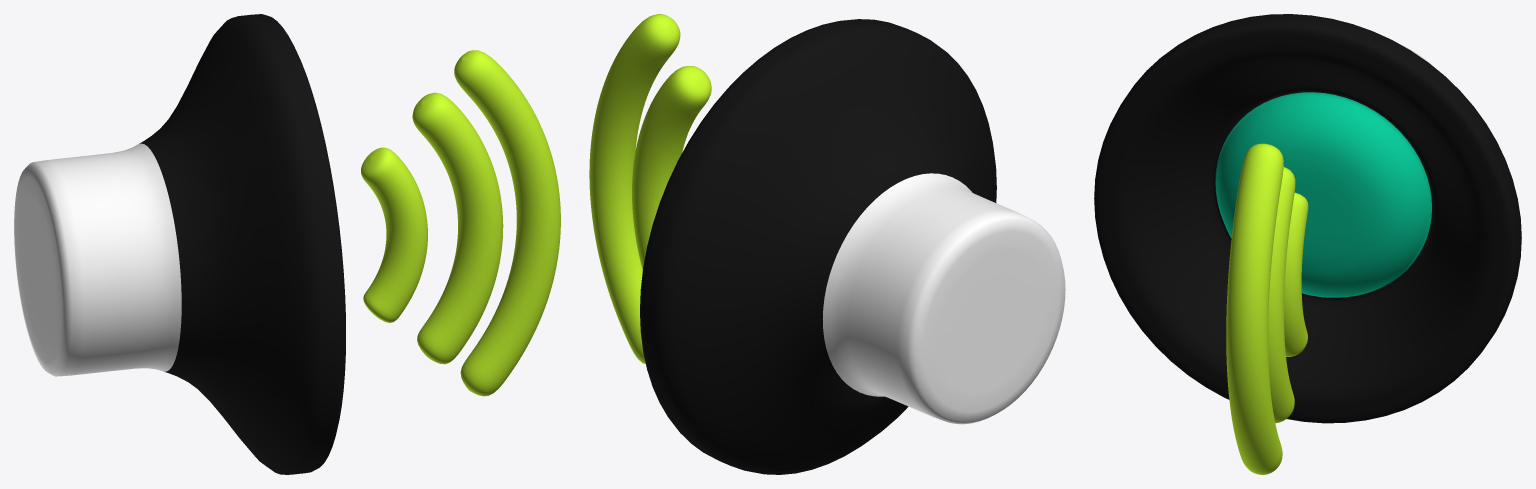
File: volume-control-3d-animated-icon-277349992658.glb
3 renders of one model, left to right at view 1: azimuth 30°, elevation 25°; view 2: azimuth 150°, elevation 25°; view 3: azimuth 270°, elevation 25°, orthographic. The views are drawn at different scales.
Parts seen in each view (by area): view 1: Cylinder.144, Circle.004, Circle.003, Circle.005; view 2: Cylinder.144, Circle.004, Circle.003; view 3: Cylinder.144, Circle.004, Circle.003, Circle.005.
Part boxes in pixels (x1=…): Cylinder.144: x1=14, y1=14, x2=345, y2=474; Circle.004: x1=454, y1=50, x2=560, y2=396; Circle.003: x1=412, y1=92, x2=503, y2=364; Circle.005: x1=361, y1=147, x2=427, y2=322; Cylinder.144: x1=640, y1=19, x2=1065, y2=474; Circle.004: x1=589, y1=14, x2=680, y2=364; Circle.003: x1=632, y1=66, x2=711, y2=270; Cylinder.144: x1=1094, y1=14, x2=1521, y2=423; Circle.004: x1=1226, y1=143, x2=1283, y2=474; Circle.003: x1=1268, y1=167, x2=1295, y2=423; Circle.005: x1=1284, y1=192, x2=1308, y2=356.
Size of the model in its own units: 4.63 by 3.87 by 3.78.
